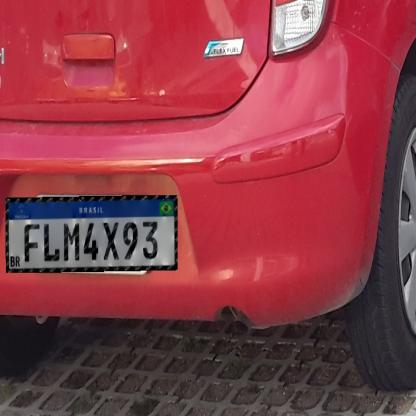PlacaM: (6, 195, 178, 273)
